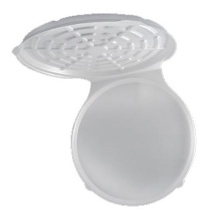foam_box: (7, 8, 202, 212)
